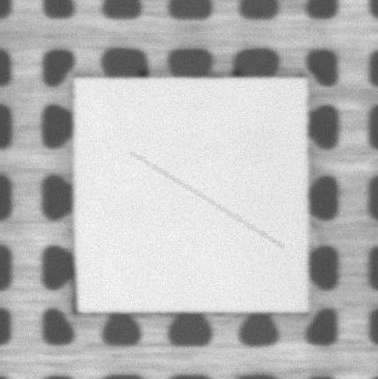DIE_CRACK: (132, 153, 283, 248)
